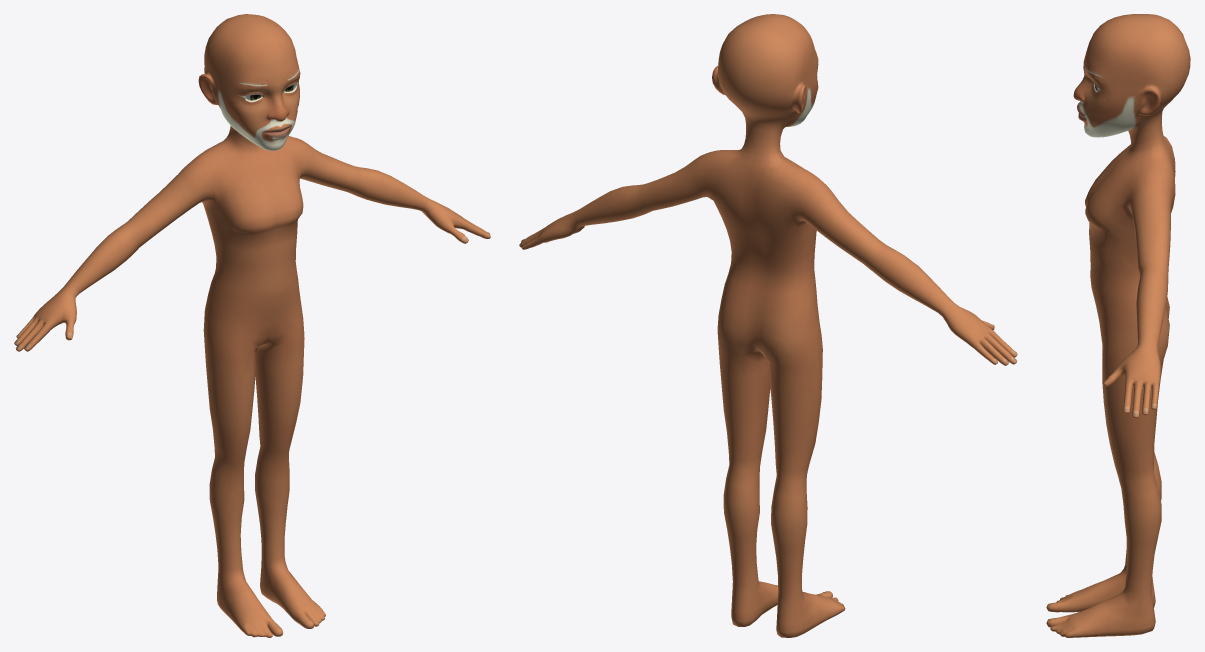
Rendered from frame_0057.glb.
3 renders of one model, left to right at view 1: azimuth 30°, elevation 25°; view 2: azimuth 150°, elevation 25°; view 3: azimuth 270°, elevation 25°, orthographic. The views are drawn at different scales.
Visible parts, largest first — view 1: frame_0057_head_geo; view 2: frame_0057_head_geo; view 3: frame_0057_head_geo.
Boxes of the visible parts, bbox=[...] form: frame_0057_head_geo: bbox=[14, 14, 490, 637]; frame_0057_head_geo: bbox=[519, 14, 1017, 637]; frame_0057_head_geo: bbox=[1046, 14, 1190, 637].
Size of the model in its own units: 1.28 by 1.5 by 0.3253.
Materials: 3 (3 with a texture image).
